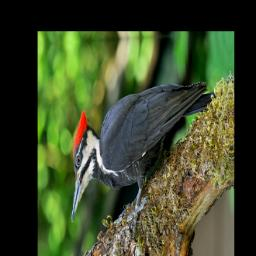Woodpecker: (68, 66, 220, 241)
